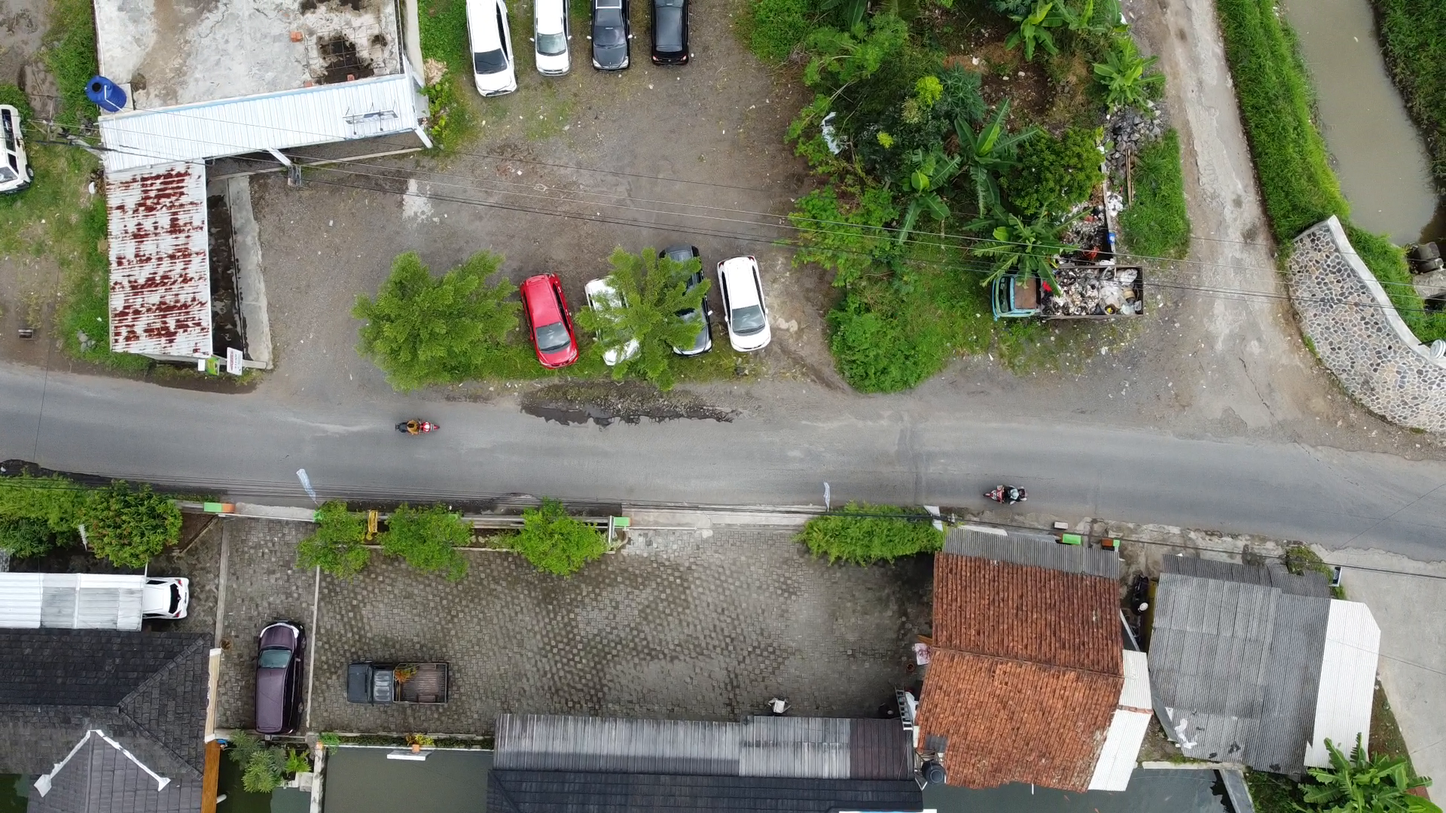mobil: (645, 235, 719, 358), (246, 609, 309, 751), (714, 238, 777, 369), (581, 262, 643, 385), (336, 648, 462, 708), (452, 3, 526, 105), (516, 268, 580, 376), (580, 1, 646, 90), (513, 3, 574, 85), (641, 1, 706, 70), (139, 566, 191, 629)
